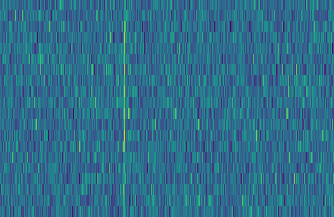signal: (118, 0, 128, 217)
